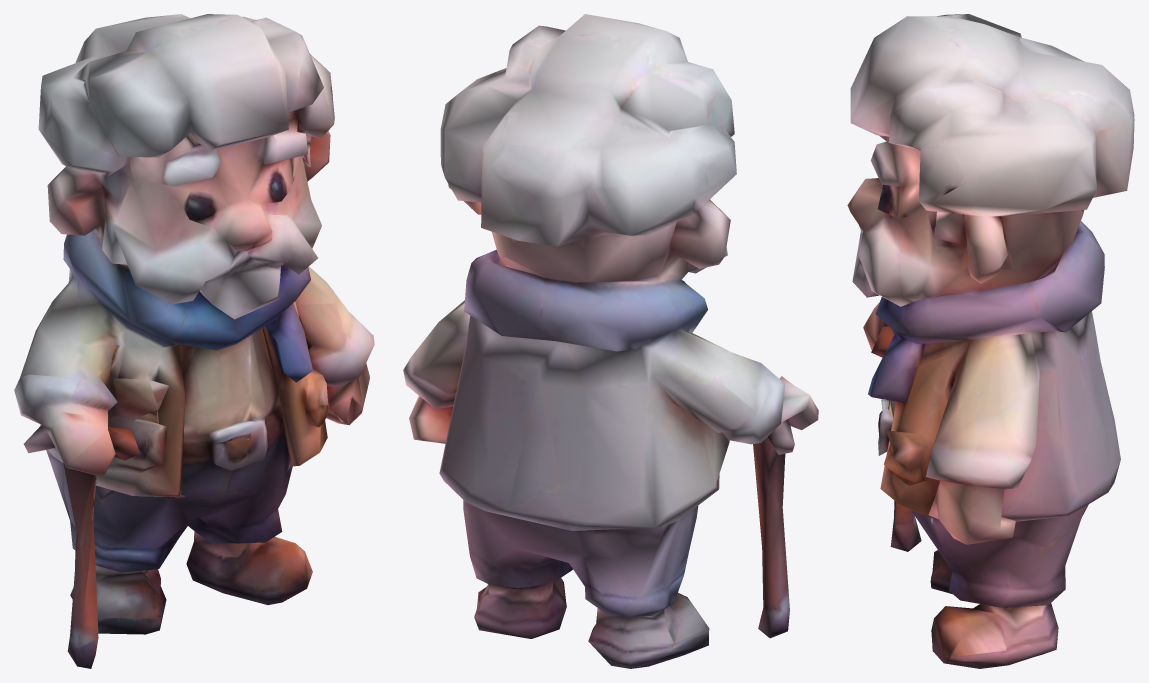
File: resident_elder.glb
The picture shows the model from 3 angles, left to right: view 1: azimuth 30°, elevation 25°; view 2: azimuth 150°, elevation 25°; view 3: azimuth 270°, elevation 25°; orthographic projection.
Visible parts, largest first — view 1: tripo_node_0f2e65af-a5fb-4b43-acdb-84d59a90b9de; view 2: tripo_node_0f2e65af-a5fb-4b43-acdb-84d59a90b9de; view 3: tripo_node_0f2e65af-a5fb-4b43-acdb-84d59a90b9de.
Boxes of the visible parts, x1,y1,x2,y2 form: tripo_node_0f2e65af-a5fb-4b43-acdb-84d59a90b9de: [14, 14, 374, 668]; tripo_node_0f2e65af-a5fb-4b43-acdb-84d59a90b9de: [403, 14, 818, 668]; tripo_node_0f2e65af-a5fb-4b43-acdb-84d59a90b9de: [847, 14, 1134, 668].
Bounding box in the file's own units: 0.6309 × 0.9769 × 0.4313.
1 material, 1 textured.
